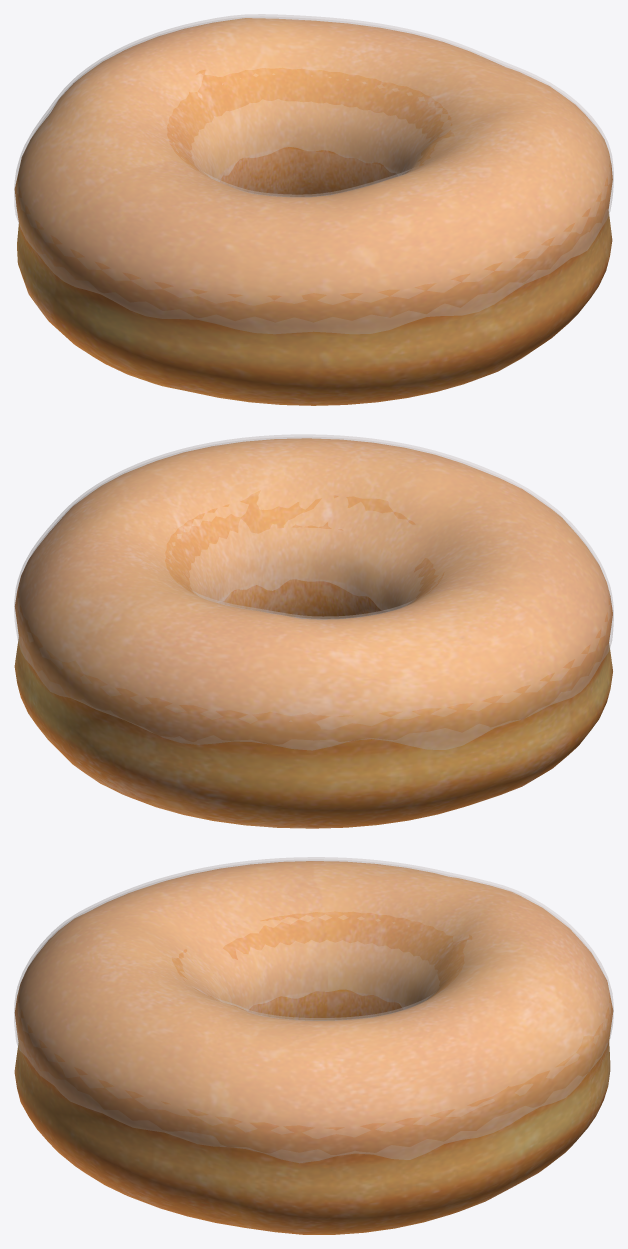
The model's file is donut.glb.
The picture shows the model from 3 angles, top to bottom: view 1: azimuth 30°, elevation 25°; view 2: azimuth 150°, elevation 25°; view 3: azimuth 270°, elevation 25°; orthographic projection.
Visible parts, largest first — view 1: Donut, Sugar; view 2: Donut, Sugar; view 3: Donut, Sugar.
Boxes of the visible parts, x1,y1,x2,y2 form: Donut: [14, 18, 612, 405]; Sugar: [14, 14, 613, 333]; Donut: [14, 438, 612, 828]; Sugar: [14, 434, 613, 750]; Donut: [14, 861, 613, 1234]; Sugar: [14, 857, 613, 1162].
Bounding box in the file's own units: 1.52 × 0.5716 × 1.53.
2 materials, 1 textured.
